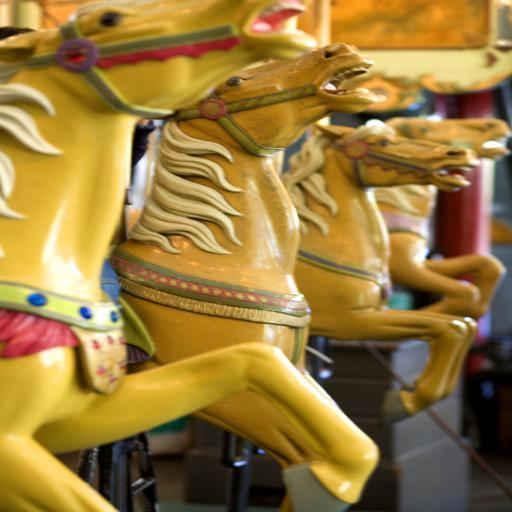horse: (0, 0, 384, 512), (106, 41, 378, 512), (122, 124, 478, 425), (364, 115, 510, 321)
